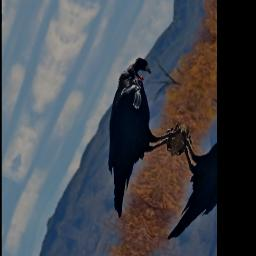Crow: (71, 49, 200, 229)
